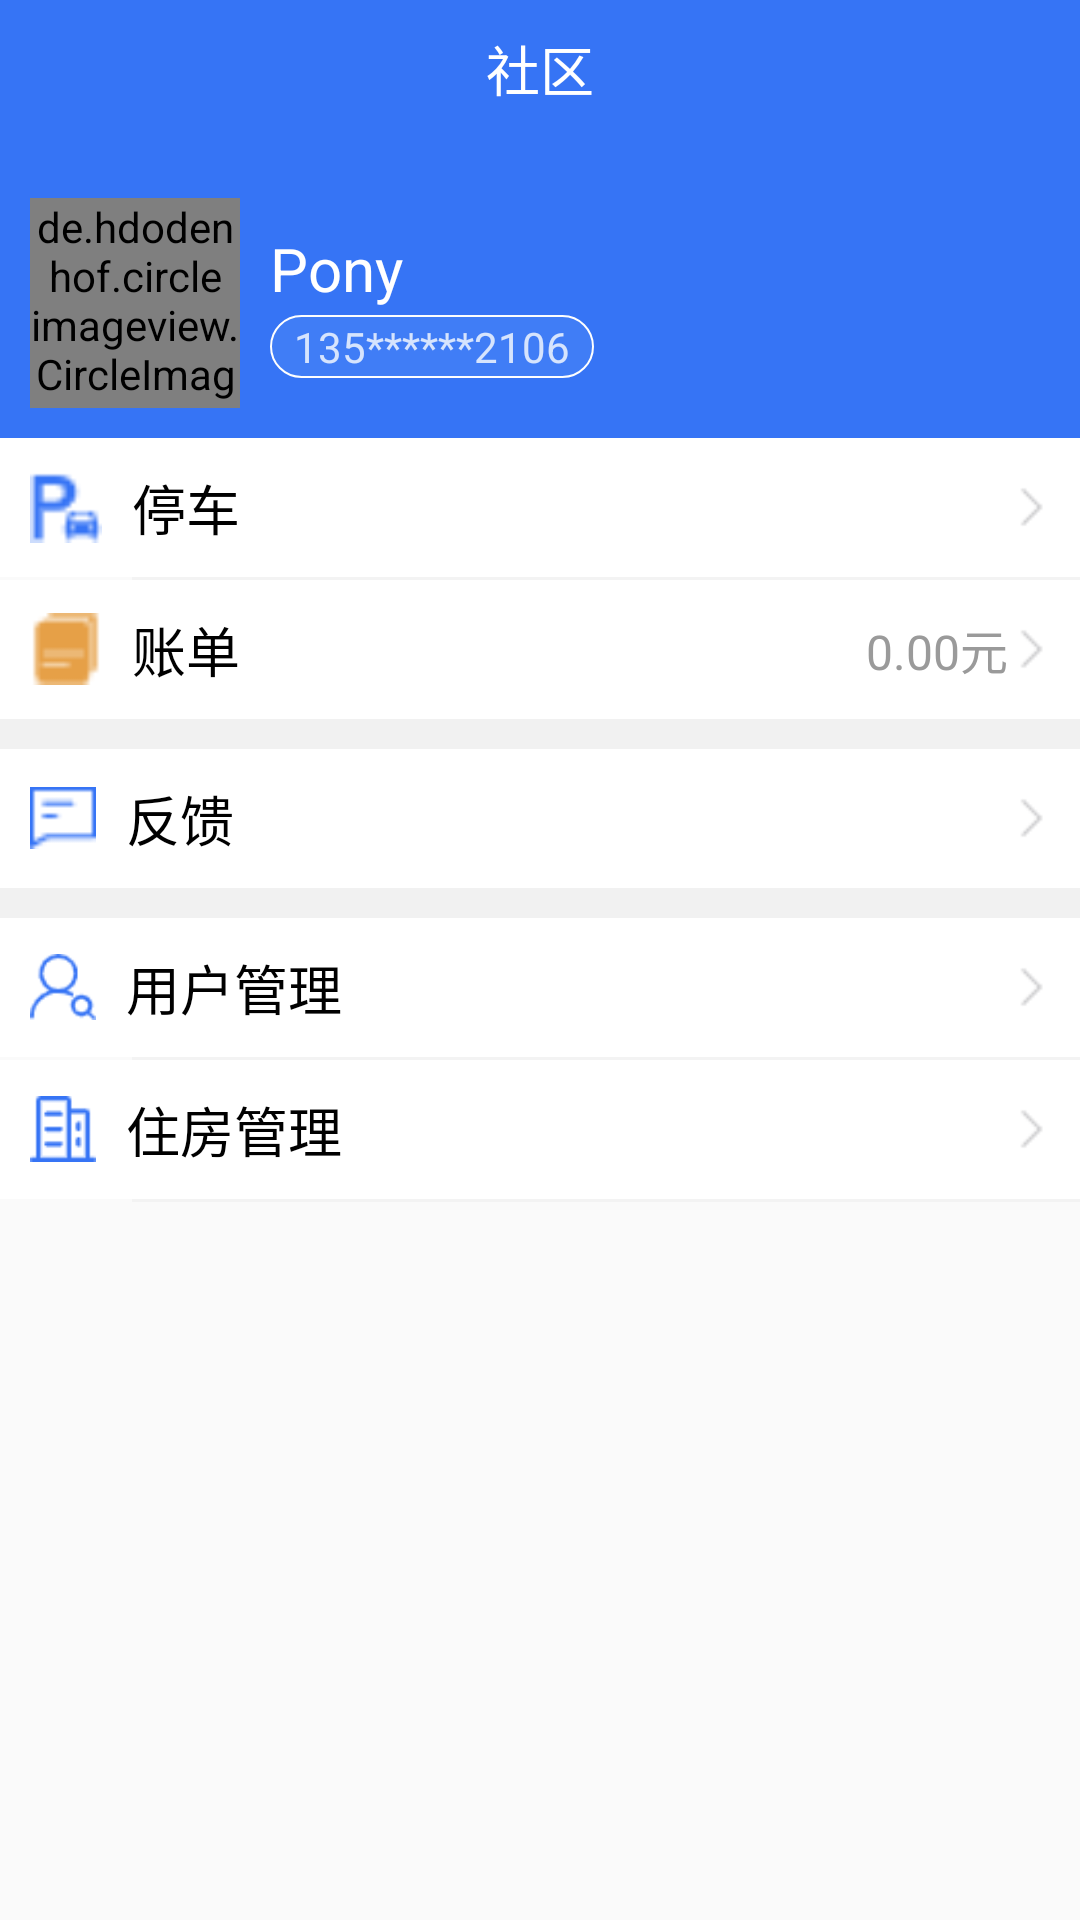

Screen size 1080px x 1920px. Icon name, then its box in pixels as (x1, y1, x2, y2):
bill: (33, 613, 99, 685)
building: (30, 1096, 96, 1162)
forward: (1022, 489, 1041, 525), (1022, 631, 1041, 667), (1022, 800, 1041, 836), (1022, 969, 1041, 1005), (1022, 1111, 1041, 1147)
management: (30, 954, 96, 1020)
park: (30, 474, 102, 543)
proposal: (30, 787, 96, 849)
